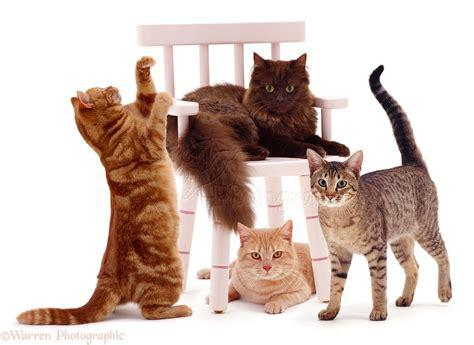cat: (17, 58, 190, 325), (307, 66, 451, 320), (165, 52, 348, 225), (230, 222, 314, 314)
